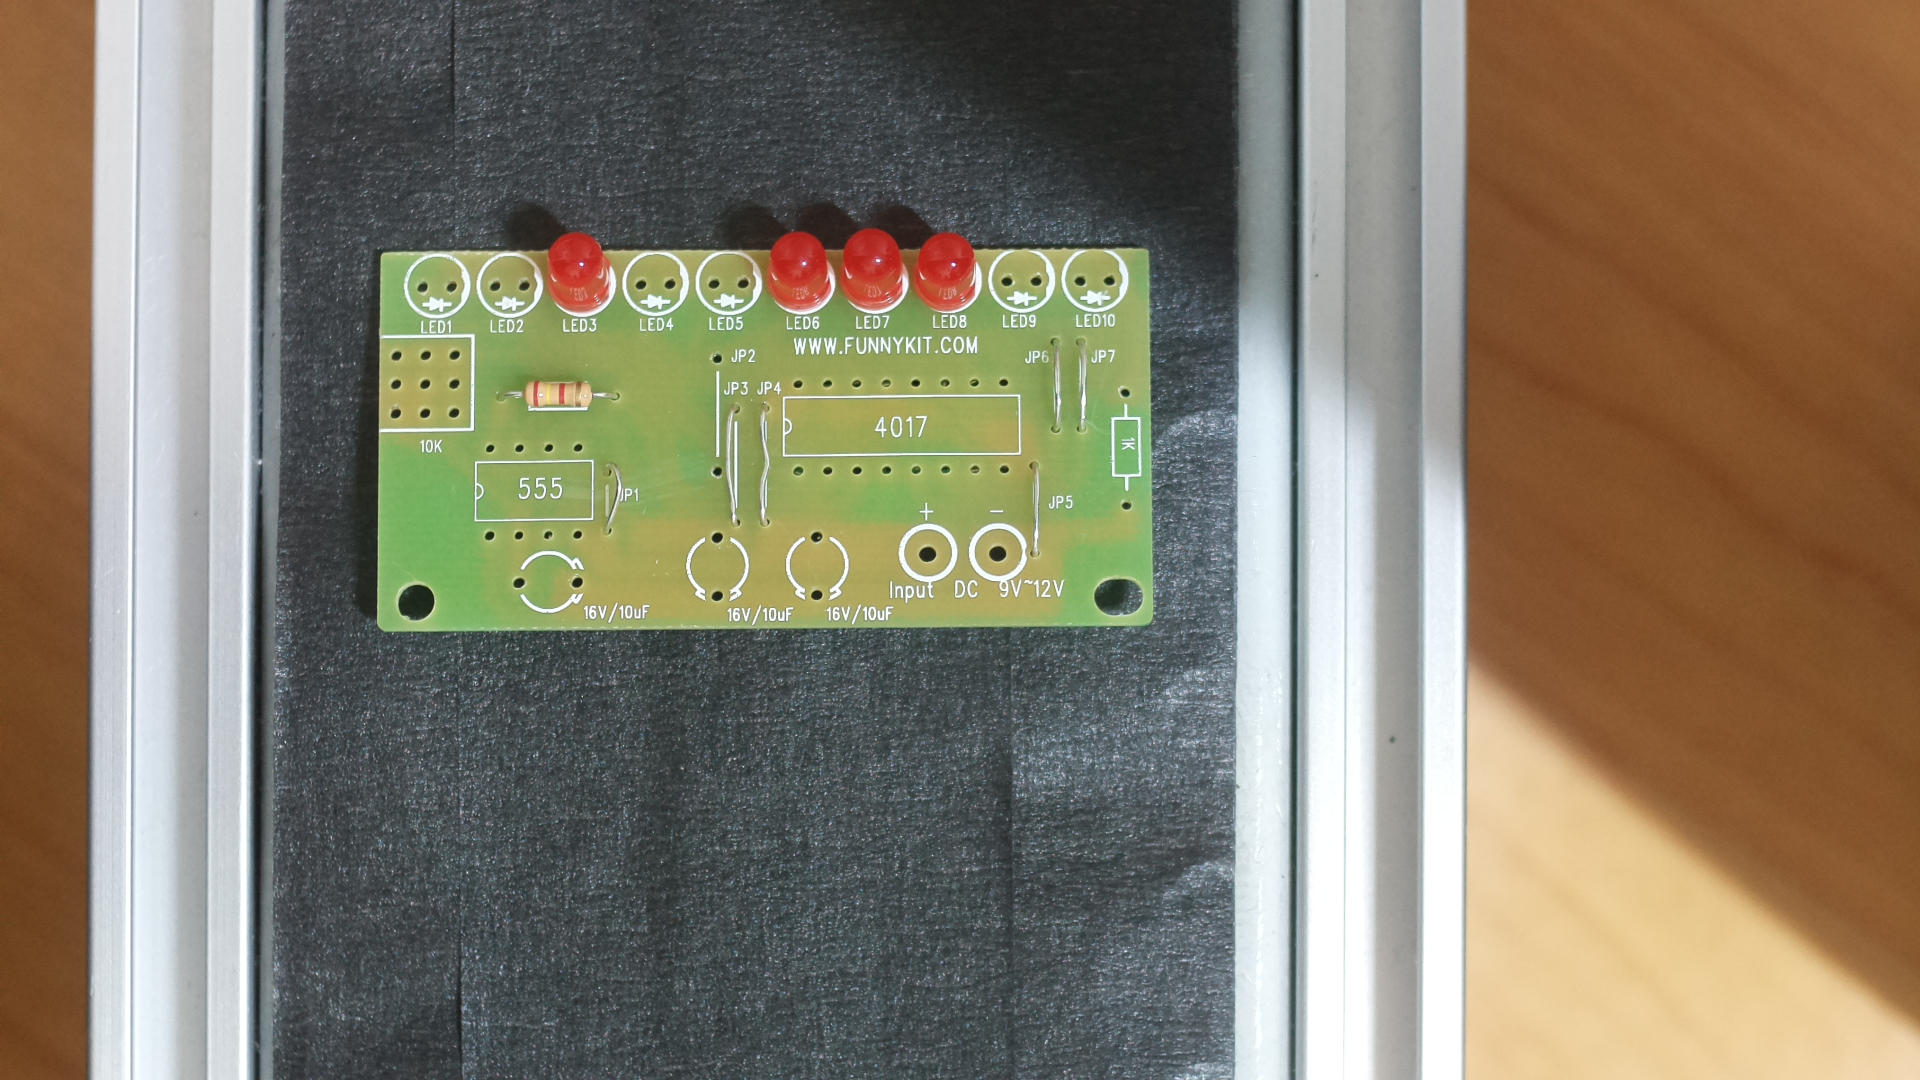B_Missing_part: (363, 223, 1176, 651)
